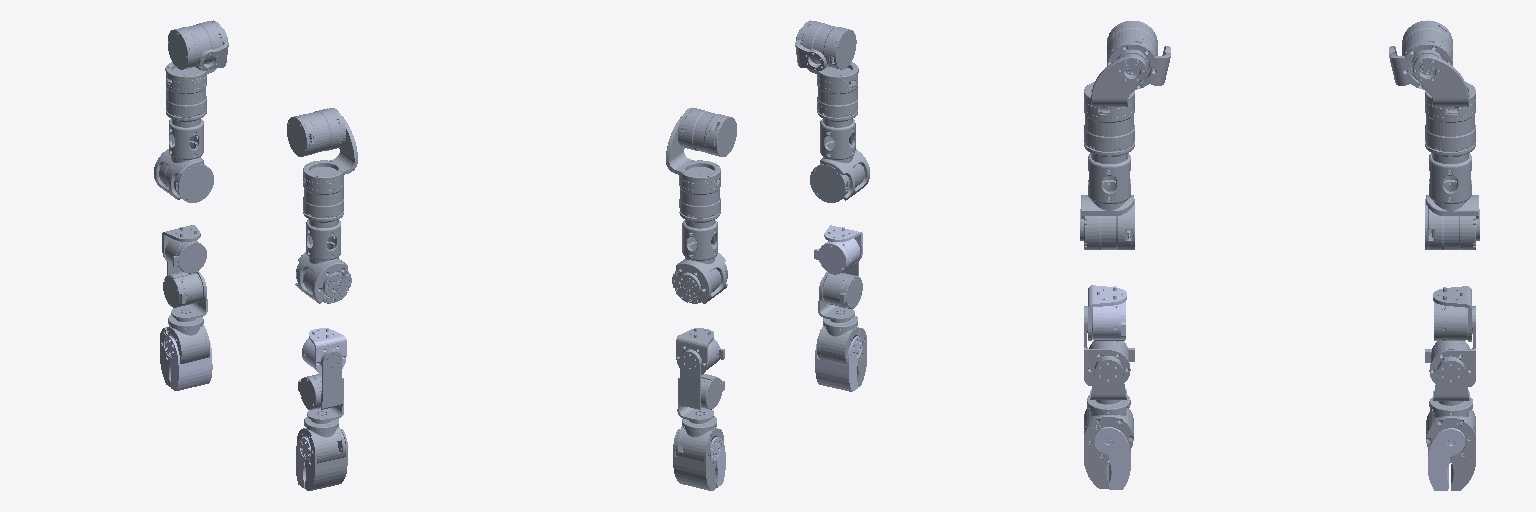
--- Render facts (derived) ---
3 views of the same robot in one strip: view 1: azimuth 30°, elevation 25°; view 2: azimuth 150°, elevation 25°; view 3: azimuth 270°, elevation 25° (orthographic).
Robot: up_body — 17 links, 16 joints (16 revolute); root link base; default pose: all joints at 0.
Links seen in each view (by area): view 1: left_3_link, right_3_link, right_7_link, right_2_link, left_1_link, left_7_link, right_1_link, left_2_link, right_6_link, left_5_link, left_8_link, left_6_link (+2 smaller); view 2: right_3_link, left_3_link, left_7_link, left_2_link, right_1_link, right_7_link, left_1_link, right_2_link, left_6_link, right_5_link, right_8_link, right_6_link (+2 smaller); view 3: right_3_link, left_3_link, left_2_link, right_2_link, left_7_link, right_7_link, left_1_link, right_1_link, right_5_link, left_5_link, left_8_link, right_8_link (+2 smaller).
Link boxes in pixels (<box>): left_3_link: <box>154,110,213,202</box>; right_3_link: <box>295,211,351,303</box>; right_7_link: <box>297,399,347,490</box>; right_2_link: <box>303,116,357,217</box>; left_1_link: <box>168,20,228,70</box>; left_7_link: <box>160,277,209,386</box>; right_1_link: <box>287,108,345,156</box>; left_2_link: <box>165,28,227,117</box>; right_6_link: <box>298,349,343,409</box>; left_5_link: <box>162,225,206,273</box>; left_8_link: <box>164,336,212,390</box>; left_6_link: <box>163,261,205,307</box>; right_3_link: <box>810,110,869,202</box>; left_3_link: <box>672,211,727,303</box>; left_7_link: <box>673,404,723,490</box>; left_2_link: <box>666,116,720,218</box>; right_1_link: <box>795,20,856,70</box>; right_7_link: <box>817,278,866,386</box>; left_1_link: <box>678,108,736,156</box>; right_2_link: <box>796,28,858,117</box>; left_6_link: <box>678,349,724,409</box>; right_5_link: <box>814,225,862,274</box>; right_8_link: <box>815,336,862,391</box>; right_6_link: <box>820,262,862,308</box>; right_3_link: <box>1080,142,1134,249</box>; left_3_link: <box>1425,141,1479,249</box>; left_2_link: <box>1413,54,1475,151</box>; right_2_link: <box>1084,54,1146,151</box>; left_7_link: <box>1426,357,1475,490</box>; right_7_link: <box>1084,356,1133,488</box>; left_1_link: <box>1389,20,1452,89</box>; right_1_link: <box>1107,21,1170,89</box>; right_5_link: <box>1088,285,1126,340</box>; left_5_link: <box>1433,286,1471,341</box>; left_8_link: <box>1428,428,1464,490</box>; right_8_link: <box>1095,427,1130,489</box>.
Size in the robot's own frame: 0.0758 by 0.4393 by 0.545 metres.
Meshes: 17 distinct files referenced, 14 mesh visuals loaded (14 binary STL); not drawn: 3 (reference not matched to a file when rendering).

URDF robot description (up_body):
<?xml version="1.0" encoding="utf-8"?>
<!-- This URDF was automatically created by SolidWorks to URDF Exporter! Originally created by
Stephen Brawner ([email redacted]) 
     Commit Version: 1.6.0-4-g7f85cfe  Build Version: 1.6.7995.38578
     For more information, please see http://wiki.ros.org/sw_urdf_exporter -->
<robot name="up_body">
    <link
        name="base">
        <inertial>
            <origin
                xyz="0.01217 -0.0023182 -0.052537"
                rpy="0 0 0" />
            <mass
                value="2.5066" />
            <inertia
                ixx="0.0055527"
                ixy="-3.6756E-08"
                ixz="3.6623E-09"
                iyy="0.003631"
                iyz="-8.8518E-08"
                izz="0.0033253" />
        </inertial>
        <visual>
            <origin
                xyz="0 0 0"
                rpy="0 0 0" />
            <geometry>
                <mesh
                    filename="package://wow_description/robot/wow_little/meshes/base.STL" />
            </geometry>
            <material
                name="">
                <color
                    rgba="0.75294 0.75294 0.75294 1" />
            </material>
        </visual>
        <collision>
            <origin
                xyz="0 0 0"
                rpy="0 0 0" />
            <geometry>
                <mesh
                    filename="package://wow_description/robot/wow_little/meshes/base.STL" />
            </geometry>
        </collision>
    </link>
    <link
        name="left_1_link">
        <inertial>
            <origin
                xyz="0.013474 0.030402 0.0064645"
                rpy="0 0 0" />
            <mass
                value="0.079025" />
            <inertia
                ixx="4.1444E-05"
                ixy="-4.8043E-06"
                ixz="-1.0203E-06"
                iyy="2.3549E-05"
                iyz="-1.6139E-06"
                izz="3.1271E-05" />
        </inertial>
        <visual>
            <origin
                xyz="0 0 0"
                rpy="0 0 0" />
            <geometry>
                <mesh
                    filename="package://wow_description/robot/wow_little/meshes/left_1_link.STL" />
            </geometry>
            <material
                name="">
                <color
                    rgba="0.66667 0.69804 0.76863 1" />
            </material>
        </visual>
        <collision>
            <origin
                xyz="0 0 0"
                rpy="0 0 0" />
            <geometry>
                <mesh
                    filename="package://wow_description/robot/wow_little/meshes/left_1_link.STL" />
            </geometry>
        </collision>
    </link>
    <joint
        name="left_1_joint"
        type="revolute">
        <origin
            xyz="0 0.12277 0.072701"
            rpy="0 0 0" />
        <parent
            link="base" />
        <child
            link="left_1_link" />
        <axis
            xyz="0 -0.97815 -0.20791" />
        <limit
            lower="-1.22"
            upper="2.2"
            effort="0"
            velocity="3" />
    </joint>
    <link
        name="left_2_link">
        <inertial>
            <origin
                xyz="0.01585 0.021696 -0.051129"
                rpy="0 0 0" />
            <mass
                value="0.11148" />
            <inertia
                ixx="5.445E-05"
                ixy="4.2803E-06"
                ixz="-1.5291E-05"
                iyy="6.3069E-05"
                iyz="9.3631E-06"
                izz="6.4346E-05" />
        </inertial>
        <visual>
            <origin
                xyz="0 0 0"
                rpy="0 0 0" />
            <geometry>
                <mesh
                    filename="package://wow_description/robot/wow_little/meshes/left_2_link.STL" />
            </geometry>
            <material
                name="">
                <color
                    rgba="0.66667 0.69804 0.76863 1" />
            </material>
        </visual>
        <collision>
            <origin
                xyz="0 0 0"
                rpy="0 0 0" />
            <geometry>
                <mesh
                    filename="package://wow_description/robot/wow_little/meshes/left_2_link.STL" />
            </geometry>
        </collision>
    </link>
    <joint
        name="left_2_joint"
        type="revolute">
        <origin
            xyz="0 0.039126 0.0083165"
            rpy="0 0 0" />
        <parent
            link="left_1_link" />
        <child
            link="left_2_link" />
        <axis
            xyz="-1 0 0" />
        <limit
            lower="-1.5"
            upper="0.2"
            effort="0"
            velocity="3" />
    </joint>
    <link
        name="left_3_link">
        <inertial>
            <origin
                xyz="-0.0024897 0.0029348 -0.052601"
                rpy="0 0 0" />
            <mass
                value="0.23871" />
            <inertia
                ixx="9.8794E-05"
                ixy="9.1361E-07"
                ixz="-1.2726E-05"
                iyy="0.00010379"
                iyz="3.1846E-06"
                izz="0.00010169" />
        </inertial>
        <visual>
            <origin
                xyz="0 0 0"
                rpy="0 0 0" />
            <geometry>
                <mesh
                    filename="package://wow_description/robot/wow_little/meshes/left_3_link.STL" />
            </geometry>
            <material
                name="">
                <color
                    rgba="0.66667 0.69804 0.76863 1" />
            </material>
        </visual>
        <collision>
            <origin
                xyz="0 0 0"
                rpy="0 0 0" />
            <geometry>
                <mesh
                    filename="package://wow_description/robot/wow_little/meshes/left_3_link.STL" />
            </geometry>
        </collision>
    </link>
    <joint
        name="left_3_joint"
        type="revolute">
        <origin
            xyz="0 0.0249999999999994 -0.110500000000002"
            rpy="0 0 0" />
        <parent
            link="left_2_link" />
        <child
            link="left_3_link" />
        <axis
            xyz="0 0 1" />
        <limit
            lower="-2.5"
            upper="2.5"
            effort="0"
            velocity="3" />
    </joint>
    <link
        name="left_4_link">
        <inertial>
            <origin
                xyz="9.5034E-05 0.0089784 -0.046116"
                rpy="0 0 0" />
            <mass
                value="0.15481" />
            <inertia
                ixx="5.985E-05"
                ixy="-2.5765E-07"
                ixz="-2.4359E-08"
                iyy="5.3653E-05"
                iyz="-9.668E-06"
                izz="7.4897E-05" />
        </inertial>
        <visual>
            <origin
                xyz="0 0 0"
                rpy="0 0 0" />
            <geometry>
                <mesh
                    filename="package://wow_description/robot/wow_little/meshes/left_4_link.STL" />
            </geometry>
            <material
                name="">
                <color
                    rgba="0.66667 0.69804 0.76863 1" />
            </material>
        </visual>
        <collision>
            <origin
                xyz="0 0 0"
                rpy="0 0 0" />
            <geometry>
                <mesh
                    filename="package://wow_description/robot/wow_little/meshes/left_4_link.STL" />
            </geometry>
        </collision>
    </link>
    <joint
        name="left_4_joint"
        type="revolute">
        <origin
            xyz="0 0 -0.096"
            rpy="0 0 0" />
        <parent
            link="left_3_link" />
        <child
            link="left_4_link" />
        <axis
            xyz="0 -1 0" />
        <limit
            lower="-1.75"
            upper="1.75"
            effort="0"
            velocity="3" />
    </joint>
    <link
        name="left_5_link">
        <inertial>
            <origin
                xyz="-8.0972E-05 0.0038944 -0.023942"
                rpy="0 0 0" />
            <mass
                value="0.089837" />
            <inertia
                ixx="2.5983E-05"
                ixy="-1.114E-07"
                ixz="1.7557E-09"
                iyy="2.7759E-05"
                iyz="2.8951E-06"
                izz="2.4691E-05" />
        </inertial>
        <visual>
            <origin
                xyz="0 0 0"
                rpy="0 0 0" />
            <geometry>
                <mesh
                    filename="package://wow_description/robot/wow_little/meshes/left_5_link.STL" />
            </geometry>
            <material
                name="">
                <color
                    rgba="0.66667 0.69804 0.76863 1" />
            </material>
        </visual>
        <collision>
            <origin
                xyz="0 0 0"
                rpy="0 0 0" />
            <geometry>
                <mesh
                    filename="package://wow_description/robot/wow_little/meshes/left_5_link.STL" />
            </geometry>
        </collision>
    </link>
    <joint
        name="left_5_joint"
        type="revolute">
        <origin
            xyz="0 0 -0.0851"
            rpy="0 0 0" />
        <parent
            link="left_4_link" />
        <child
            link="left_5_link" />
        <axis
            xyz="0 0 -1" />
        <limit
            lower="-3"
            upper="3"
            effort="0"
            velocity="3" />
    </joint>
    <link
        name="left_6_link">
        <inertial>
            <origin
                xyz="-0.0011402 0.0084256 -0.043084"
                rpy="0 0 0" />
            <mass
                value="0.097255" />
            <inertia
                ixx="4.4977E-05"
                ixy="1.8436E-06"
                ixz="3.5647E-06"
                iyy="4.3525E-05"
                iyz="-3.2253E-06"
                izz="2.3016E-05" />
        </inertial>
        <visual>
            <origin
                xyz="0 0 0"
                rpy="0 0 0" />
            <geometry>
                <mesh
                    filename="package://wow_description/robot/wow_little/meshes/left_6_link.STL" />
            </geometry>
            <material
                name="">
                <color
                    rgba="0.66667 0.69804 0.76863 1" />
            </material>
        </visual>
        <collision>
            <origin
                xyz="0 0 0"
                rpy="0 0 0" />
            <geometry>
                <mesh
                    filename="package://wow_description/robot/wow_little/meshes/left_6_link.STL" />
            </geometry>
        </collision>
    </link>
    <joint
        name="left_6_joint"
        type="revolute">
        <origin
            xyz="0 0 -0.03"
            rpy="0 0 0" />
        <parent
            link="left_5_link" />
        <child
            link="left_6_link" />
        <axis
            xyz="0 1 0" />
        <limit
            lower="-1.75"
            upper="1.75"
            effort="0"
            velocity="3" />
    </joint>
    <link
        name="left_7_link">
        <inertial>
            <origin
                xyz="0.0041624 0.0036348 -0.069188"
                rpy="0 0 0" />
            <mass
                value="0.14593" />
            <inertia
                ixx="5.5475E-05"
                ixy="2.3496E-07"
                ixz="-4.2025E-06"
                iyy="5.6511E-05"
                iyz="-2.1777E-06"
                izz="4.3362E-05" />
        </inertial>
        <visual>
            <origin
                xyz="0 0 0"
                rpy="0 0 0" />
            <geometry>
                <mesh
                    filename="package://wow_description/robot/wow_little/meshes/left_7_link.STL" />
            </geometry>
            <material
                name="">
                <color
                    rgba="0.66667 0.69804 0.76863 1" />
            </material>
        </visual>
        <collision>
            <origin
                xyz="0 0 0"
                rpy="0 0 0" />
            <geometry>
                <mesh
                    filename="package://wow_description/robot/wow_little/meshes/left_7_link.STL" />
            </geometry>
        </collision>
    </link>
    <joint
        name="left_7_joint"
        type="revolute">
        <origin
            xyz="0 0.001 -0.053"
            rpy="0 0 0" />
        <parent
            link="left_6_link" />
        <child
            link="left_7_link" />
        <axis
            xyz="1 0 0" />
        <limit
            lower="-1.75"
            upper="1.75"
            effort="0"
            velocity="3" />
    </joint>
    <link
        name="left_8_link">
        <inertial>
            <origin
                xyz="0.00092878 -0.013414 -0.036076"
                rpy="0 0 0" />
            <mass
                value="0.042061" />
            <inertia
                ixx="1.3299E-05"
                ixy="-2.4192E-07"
                ixz="-6.5064E-07"
                iyy="2.3234E-05"
                iyz="-1.0291E-06"
                izz="1.4603E-05" />
        </inertial>
        <visual>
            <origin
                xyz="0 0 0"
                rpy="0 0 0" />
            <geometry>
                <mesh
                    filename="package://wow_description/robot/wow_little/meshes/left_8_link.STL" />
            </geometry>
            <material
                name="">
                <color
                    rgba="0.79216 0.81961 0.93333 1" />
            </material>
        </visual>
        <collision>
            <origin
                xyz="0 0 0"
                rpy="0 0 0" />
            <geometry>
                <mesh
                    filename="package://wow_description/robot/wow_little/meshes/left_8_link.STL" />
            </geometry>
        </collision>
    </link>
    <joint
        name="left_8_joint"
        type="revolute">
        <origin
            xyz="0 0 -0.082"
            rpy="0 0 0" />
        <parent
            link="left_7_link" />
        <child
            link="left_8_link" />
        <axis
            xyz="1 0 0" />
        <limit
            lower="-3"
            upper="3"
            effort="0"
            velocity="3" />
    </joint>
    <link
        name="right_1_link">
        <inertial>
            <origin
                xyz="0.013474 -0.030403 0.0064632"
                rpy="0 0 0" />
            <mass
                value="0.079025" />
            <inertia
                ixx="4.1444E-05"
                ixy="4.8031E-06"
                ixz="-1.0221E-06"
                iyy="2.366E-05"
                iyz="1.6625E-06"
                izz="3.1161E-05" />
        </inertial>
        <visual>
            <origin
                xyz="0 0 0"
                rpy="0 0 0" />
            <geometry>
                <mesh
                    filename="package://wow_description/robot/wow_little/meshes/right_1_link.STL" />
            </geometry>
            <material
                name="">
                <color
                    rgba="0.66667 0.69804 0.76863 1" />
            </material>
        </visual>
        <collision>
            <origin
                xyz="0 0 0"
                rpy="0 0 0" />
            <geometry>
                <mesh
                    filename="package://wow_description/robot/wow_little/meshes/right_1_link.STL" />
            </geometry>
        </collision>
    </link>
    <joint
        name="right_1_joint"
        type="revolute">
        <origin
            xyz="0 -0.12277 0.072701"
            rpy="0 0 0" />
        <parent
            link="base" />
        <child
            link="right_1_link" />
        <axis
            xyz="0 0.97815 -0.20791" />
        <limit
            lower="-2.2"
            upper="1.22"
            effort="0"
            velocity="3" />
    </joint>
    <link
        name="right_2_link">
        <inertial>
            <origin
                xyz="0.015851 -0.021694 -0.051131"
                rpy="0 0 0" />
            <mass
                value="0.11145" />
            <inertia
                ixx="5.4416E-05"
                ixy="-4.3017E-06"
                ixz="-1.5283E-05"
                iyy="6.3056E-05"
                iyz="-9.3549E-06"
                izz="6.4323E-05" />
        </inertial>
        <visual>
            <origin
                xyz="0 0 0"
                rpy="0 0 0" />
            <geometry>
                <mesh
                    filename="package://wow_description/robot/wow_little/meshes/right_2_link.STL" />
            </geometry>
            <material
                name="">
                <color
                    rgba="0.66667 0.69804 0.76863 1" />
            </material>
        </visual>
        <collision>
            <origin
                xyz="0 0 0"
                rpy="0 0 0" />
            <geometry>
                <mesh
                    filename="package://wow_description/robot/wow_little/meshes/right_2_link.STL" />
            </geometry>
        </collision>
    </link>
    <joint
        name="right_2_joint"
        type="revolute">
        <origin
            xyz="0 -0.039126 0.0083165"
            rpy="0 0 0" />
        <parent
            link="right_1_link" />
        <child
            link="right_2_link" />
        <axis
            xyz="1 0 0" />
        <limit
            lower="-1.5"
            upper="0.2"
            effort="0"
            velocity="3" />
    </joint>
    <link
        name="right_3_link">
        <inertial>
            <origin
                xyz="-0.002494 -0.0029288 -0.052631"
                rpy="0 0 0" />
            <mass
                value="0.23887" />
            <inertia
                ixx="9.9057E-05"
                ixy="-9.0322E-07"
                ixz="-1.2794E-05"
                iyy="0.00010401"
                iyz="-3.1842E-06"
                izz="0.00010184" />
        </inertial>
        <visual>
            <origin
                xyz="0 0 0"
                rpy="0 0 0" />
            <geometry>
                <mesh
                    filename="package://wow_description/robot/wow_little/meshes/right_3_link.STL" />
            </geometry>
            <material
                name="">
                <color
                    rgba="0.66667 0.69804 0.76863 1" />
            </material>
        </visual>
        <collision>
            <origin
                xyz="0 0 0"
                rpy="0 0 0" />
            <geometry>
                <mesh
                    filename="package://wow_description/robot/wow_little/meshes/right_3_link.STL" />
            </geometry>
        </collision>
    </link>
    <joint
        name="right_3_joint"
        type="revolute">
        <origin
            xyz="0 -0.025 -0.1105"
            rpy="0 0 0" />
        <parent
            link="right_2_link" />
        <child
            link="right_3_link" />
        <axis
            xyz="0 0 1" />
        <limit
            lower="-2.5"
            upper="2.5"
            effort="0"
            velocity="3" />
    </joint>
    <link
        name="right_4_link">
        <inertial>
            <origin
                xyz="-0.00088652 -0.0089784 -0.046108"
                rpy="0 0 0" />
            <mass
                value="0.15481" />
            <inertia
                ixx="5.9856E-05"
                ixy="-9.168E-08"
                ixz="2.8255E-07"
                iyy="5.3653E-05"
                iyz="9.671E-06"
                izz="7.4891E-05" />
        </inertial>
        <visual>
            <origin
                xyz="0 0 0"
                rpy="0 0 0" />
            <geometry>
                <mesh
                    filename="package://wow_description/robot/wow_little/meshes/right_4_link.STL" />
            </geometry>
            <material
                name="">
                <color
                    rgba="0.79216 0.81961 0.93333 1" />
            </material>
        </visual>
        <collision>
            <origin
                xyz="0 0 0"
                rpy="0 0 0" />
            <geometry>
                <mesh
                    filename="package://wow_description/robot/wow_little/meshes/right_4_link.STL" />
            </geometry>
        </collision>
    </link>
    <joint
        name="right_4_joint"
        type="revolute">
        <origin
            xyz="0 0 -0.096"
            rpy="0 0 0" />
        <parent
            link="right_3_link" />
        <child
            link="right_4_link" />
        <axis
            xyz="0 1 0" />
        <limit
            lower="-1.75"
            upper="1.75"
            effort="0"
            velocity="3" />
    </joint>
    <link
        name="right_5_link">
        <inertial>
            <origin
                xyz="-0.00032996 -0.0038944 -0.02394"
                rpy="0 0 0" />
            <mass
                value="0.089837" />
            <inertia
                ixx="2.5983E-05"
                ixy="-1.6108E-07"
                ixz="-2.3921E-08"
                iyy="2.7759E-05"
                iyz="-2.8927E-06"
                izz="2.4692E-05" />
        </inertial>
        <visual>
            <origin
                xyz="0 0 0"
                rpy="0 0 0" />
            <geometry>
                <mesh
                    filename="package://wow_description/robot/wow_little/meshes/right_5_link.STL" />
            </geometry>
            <material
                name="">
                <color
                    rgba="0.79216 0.81961 0.93333 1" />
            </material>
        </visual>
        <collision>
            <origin
                xyz="0 0 0"
                rpy="0 0 0" />
            <geometry>
                <mesh
                    filename="package://wow_description/robot/wow_little/meshes/right_5_link.STL" />
            </geometry>
        </collision>
    </link>
    <joint
        name="right_5_joint"
        type="revolute">
        <origin
            xyz="-0.0014606 0 -0.085087"
            rpy="0 0 0" />
        <parent
            link="right_4_link" />
        <child
            link="right_5_link" />
        <axis
            xyz="-0.017163 0 -0.99985" />
        <limit
            lower="-3"
            upper="3"
            effort="0"
            velocity="3" />
    </joint>
    <link
        name="right_6_link">
        <inertial>
            <origin
                xyz="-0.0018831 -0.0084256 -0.043269"
                rpy="0 0 0" />
            <mass
                value="0.097255" />
            <inertia
                ixx="4.5092E-05"
                ixy="-1.788E-06"
                ixz="3.1759E-06"
                iyy="4.3525E-05"
                iyz="3.2529E-06"
                izz="2.2901E-05" />
        </inertial>
        <visual>
            <origin
                xyz="0 0 0"
                rpy="0 0 0" />
            <geometry>
                <mesh
                    filename="package://wow_description/robot/wow_little/meshes/right_6_link.STL" />
            </geometry>
            <material
                name="">
                <color
                    rgba="0.66667 0.69804 0.76863 1" />
            </material>
        </visual>
        <collision>
            <origin
                xyz="0 0 0"
                rpy="0 0 0" />
            <geometry>
                <mesh
                    filename="package://wow_description/robot/wow_little/meshes/right_6_link.STL" />
            </geometry>
        </collision>
    </link>
    <joint
        name="right_6_joint"
        type="revolute">
        <origin
            xyz="-0.00051489 0 -0.029996"
            rpy="0 0 0" />
        <parent
            link="right_5_link" />
        <child
            link="right_6_link" />
        <axis
            xyz="0 -1 0" />
        <limit
            lower="-1.75"
            upper="1.75"
            effort="0"
            velocity="3" />
    </joint>
    <link
        name="right_7_link">
        <inertial>
            <origin
                xyz="6.0855E-05 -0.0036194 -0.069008"
                rpy="0 0 0" />
            <mass
                value="0.14622" />
            <inertia
                ixx="5.5449E-05"
                ixy="-1.818E-07"
                ixz="-4.3064E-06"
                iyy="5.6658E-05"
                iyz="2.1599E-06"
                izz="4.3544E-05" />
        </inertial>
        <visual>
            <origin
                xyz="0 0 0"
                rpy="0 0 0" />
            <geometry>
                <mesh
                    filename="package://wow_description/robot/wow_little/meshes/right_7_link.STL" />
            </geometry>
            <material
                name="">
                <color
                    rgba="0.66667 0.69804 0.76863 1" />
            </material>
        </visual>
        <collision>
            <origin
                xyz="0 0 0"
                rpy="0 0 0" />
            <geometry>
                <mesh
                    filename="package://wow_description/robot/wow_little/meshes/right_7_link.STL" />
            </geometry>
        </collision>
    </link>
    <joint
        name="right_7_joint"
        type="revolute">
        <origin
            xyz="0.0019755 -0.001 -0.05321"
            rpy="0 0 0" />
        <parent
            link="right_6_link" />
        <child
            link="right_7_link" />
        <axis
            xyz="0.99985 0 -0.017163" />
        <limit
            lower="-1.75"
            upper="1.75"
            effort="0"
            velocity="3" />
    </joint>
    <link
        name="right_8_link">
        <inertial>
            <origin
                xyz="-0.0039926 0.011806 -0.036335"
                rpy="0 0 0" />
            <mass
                value="0.042061" />
            <inertia
                ixx="1.3276E-05"
                ixy="2.2395E-07"
                ixz="-6.392E-07"
                iyy="2.3308E-05"
                iyz="6.4024E-07"
                izz="1.4551E-05" />
        </inertial>
        <visual>
            <origin
                xyz="0 0 0"
                rpy="0 0 0" />
            <geometry>
                <mesh
                    filename="package://wow_description/robot/wow_little/meshes/right_8_link.STL" />
            </geometry>
            <material
                name="">
                <color
                    rgba="0.79216 0.81961 0.93333 1" />
            </material>
        </visual>
        <collision>
            <origin
                xyz="0 0 0"
                rpy="0 0 0" />
            <geometry>
                <mesh
                    filename="package://wow_description/robot/wow_little/meshes/right_8_link.STL" />
            </geometry>
        </collision>
    </link>
    <joint
        name="right_8_joint"
        type="revolute">
        <origin
            xyz="0 0 -0.082079"
            rpy="0 0 0" />
        <parent
            link="right_7_link" />
        <child
            link="right_8_link" />
        <axis
            xyz="1 0 0" />
        <limit
            lower="-3"
            upper="3"
            effort="0"
            velocity="3" />
    </joint>
    <transmission name="trans_left_1_joint">
        <type>transmission_interface/SimpleTransmission</type>
        <joint name="left_1_joint">
            <hardwareInterface>hardware_interface/EffortJointInterface</hardwareInterface>
        </joint>
        <actuator name="left_1_joint_motor">
            <hardwareInterface>hardware_interface/EffortJointInterface</hardwareInterface>
            <mechanicalReduction>1</mechanicalReduction>
        </actuator>
    </transmission>
    <transmission name="trans_left_2_joint">
        <type>transmission_interface/SimpleTransmission</type>
        <joint name="left_2_joint">
            <hardwareInterface>hardware_interface/EffortJointInterface</hardwareInterface>
        </joint>
        <actuator name="left_2_joint_motor">
            <hardwareInterface>hardware_interface/EffortJointInterface</hardwareInterface>
            <mechanicalReduction>1</mechanicalReduction>
        </actuator>
    </transmission>
    <transmission name="trans_left_3_joint">
        <type>transmission_interface/SimpleTransmission</type>
        <joint name="left_3_joint">
            <hardwareInterface>hardware_interface/EffortJointInterface</hardwareInterface>
        </joint>
        <actuator name="left_3_joint_motor">
            <hardwareInterface>hardware_interface/EffortJointInterface</hardwareInterface>
            <mechanicalReduction>1</mechanicalReduction>
        </actuator>
    </transmission>
    <transmission name="trans_left_4_joint">
        <type>transmission_interface/SimpleTransmission</type>
        <joint name="left_4_joint">
            <hardwareInterface>hardware_interface/EffortJointInterface</hardwareInterface>
        </joint>
        <actuator name="left_4_joint_motor">
            <hardwareInterface>hardware_interface/EffortJointInterface</hardwareInterface>
            <mechanicalReduction>1</mechanicalReduction>
        </actuator>
    </transmission>
    <transmission name="trans_left_5_joint">
        <type>transmission_interface/SimpleTransmission</type>
        <joint name="left_5_joint">
            <hardwareInterface>hardware_interface/EffortJointInterface</hardwareInterface>
        </joint>
        <actuator name="left_5_joint_motor">
            <hardwareInterface>hardware_interface/EffortJointInterface</hardwareInterface>
            <mechanicalReduction>1</mechanicalReduction>
        </actuator>
    </transmission>
    <transmission name="trans_left_6_joint">
        <type>transmission_interface/SimpleTransmission</type>
        <joint name="left_6_joint">
            <hardwareInterface>hardware_interface/EffortJointInterface</hardwareInterface>
        </joint>
        <actuator name="left_6_joint_motor">
            <hardwareInterface>hardware_interface/EffortJointInterface</hardwareInterface>
            <mechanicalReduction>1</mechanicalReduction>
        </actuator>
    </transmission>
    <transmission name="trans_left_7_joint">
        <type>transmission_interface/SimpleTransmission</type>
        <joint name="left_7_joint">
            <hardwareInterface>hardware_interface/EffortJointInterface</hardwareInterface>
        </joint>
        <actuator name="left_7_joint_motor">
            <hardwareInterface>hardware_interface/EffortJointInterface</hardwareInterface>
            <mechanicalReduction>1</mechanicalReduction>
        </actuator>
    </transmission>
    <transmission name="trans_left_8_joint">
        <type>transmission_interface/SimpleTransmission</type>
        <joint name="left_8_joint">
            <hardwareInterface>hardware_interface/EffortJointInterface</hardwareInterface>
        </joint>
        <actuator name="left_8_joint_motor">
            <hardwareInterface>hardware_interface/EffortJointInterface</hardwareInterface>
            <mechanicalReduction>1</mechanicalReduction>
        </actuator>
    </transmission>
    <transmission name="trans_right_1_joint">
        <type>transmission_interface/SimpleTransmission</type>
        <joint name="right_1_joint">
            <hardwareInterface>hardware_interface/EffortJointInterface</hardwareInterface>
        </joint>
        <actuator name="right_1_joint_motor">
            <hardwareInterface>hardware_interface/EffortJointInterface</hardwareInterface>
            <mechanicalReduction>1</mechanicalReduction>
        </actuator>
    </transmission>
    <transmission name="trans_right_2_joint">
        <type>transmission_interface/SimpleTransmission</type>
        <joint name="right_2_joint">
            <hardwareInterface>hardware_interface/EffortJointInterface</hardwareInterface>
        </joint>
        <actuator name="right_2_joint_motor">
            <hardwareInterface>hardware_interface/EffortJointInterface</hardwareInterface>
            <mechanicalReduction>1</mechanicalReduction>
        </actuator>
    </transmission>
    <transmission name="trans_right_3_joint">
        <type>transmission_interface/SimpleTransmission</type>
        <joint name="right_3_joint">
            <hardwareInterface>hardware_interface/EffortJointInterface</hardwareInterface>
        </joint>
        <actuator name="right_3_joint_motor">
            <hardwareInterface>hardware_interface/EffortJointInterface</hardwareInterface>
            <mechanicalReduction>1</mechanicalReduction>
        </actuator>
    </transmission>
    <transmission name="trans_right_4_joint">
        <type>transmission_interface/SimpleTransmission</type>
        <joint name="right_4_joint">
            <hardwareInterface>hardware_interface/EffortJointInterface</hardwareInterface>
        </joint>
        <actuator name="right_4_joint_motor">
            <hardwareInterface>hardware_interface/EffortJointInterface</hardwareInterface>
            <mechanicalReduction>1</mechanicalReduction>
        </actuator>
    </transmission>
    <transmission name="trans_right_5_joint">
        <type>transmission_interface/SimpleTransmission</type>
        <joint name="right_5_joint">
            <hardwareInterface>hardware_interface/EffortJointInterface</hardwareInterface>
        </joint>
        <actuator name="right_5_joint_motor">
            <hardwareInterface>hardware_interface/EffortJointInterface</hardwareInterface>
            <mechanicalReduction>1</mechanicalReduction>
        </actuator>
    </transmission>
    <transmission name="trans_right_6_joint">
        <type>transmission_interface/SimpleTransmission</type>
        <joint name="right_6_joint">
            <hardwareInterface>hardware_interface/EffortJointInterface</hardwareInterface>
        </joint>
        <actuator name="right_6_joint_motor">
            <hardwareInterface>hardware_interface/EffortJointInterface</hardwareInterface>
            <mechanicalReduction>1</mechanicalReduction>
        </actuator>
    </transmission>
    <transmission name="trans_right_7_joint">
        <type>transmission_interface/SimpleTransmission</type>
        <joint name="right_7_joint">
            <hardwareInterface>hardware_interface/EffortJointInterface</hardwareInterface>
        </joint>
        <actuator name="right_7_joint_motor">
            <hardwareInterface>hardware_interface/EffortJointInterface</hardwareInterface>
            <mechanicalReduction>1</mechanicalReduction>
        </actuator>
    </transmission>
    <transmission name="trans_right_8_joint">
        <type>transmission_interface/SimpleTransmission</type>
        <joint name="right_8_joint">
            <hardwareInterface>hardware_interface/EffortJointInterface</hardwareInterface>
        </joint>
        <actuator name="right_8_joint_motor">
            <hardwareInterface>hardware_interface/EffortJointInterface</hardwareInterface>
            <mechanicalReduction>1</mechanicalReduction>
        </actuator>
    </transmission>
    <gazebo>
        <plugin name="gazebo_ros_control" filename="libgazebo_ros_control.so">
            <robotNamespace>/</robotNamespace>
        </plugin>
    </gazebo>
</robot>
